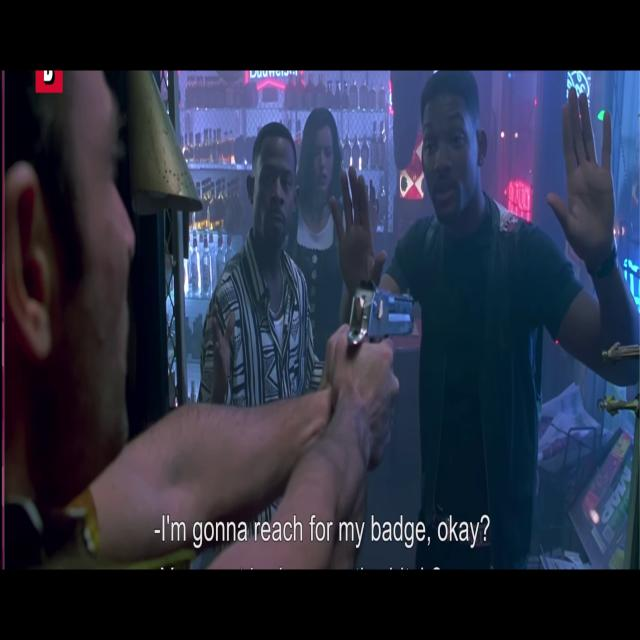weapons: (330, 268, 424, 454)
